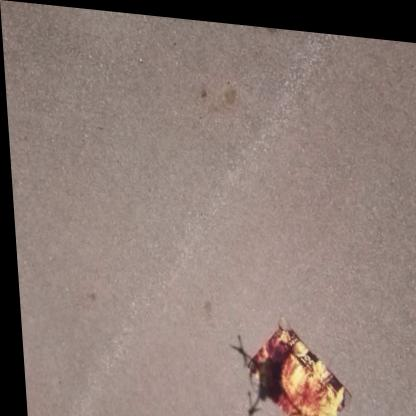fire-poster: (233, 305, 349, 416)
